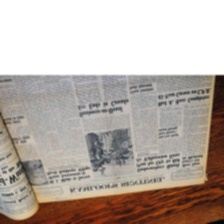news_paper: (0, 74, 217, 221)
